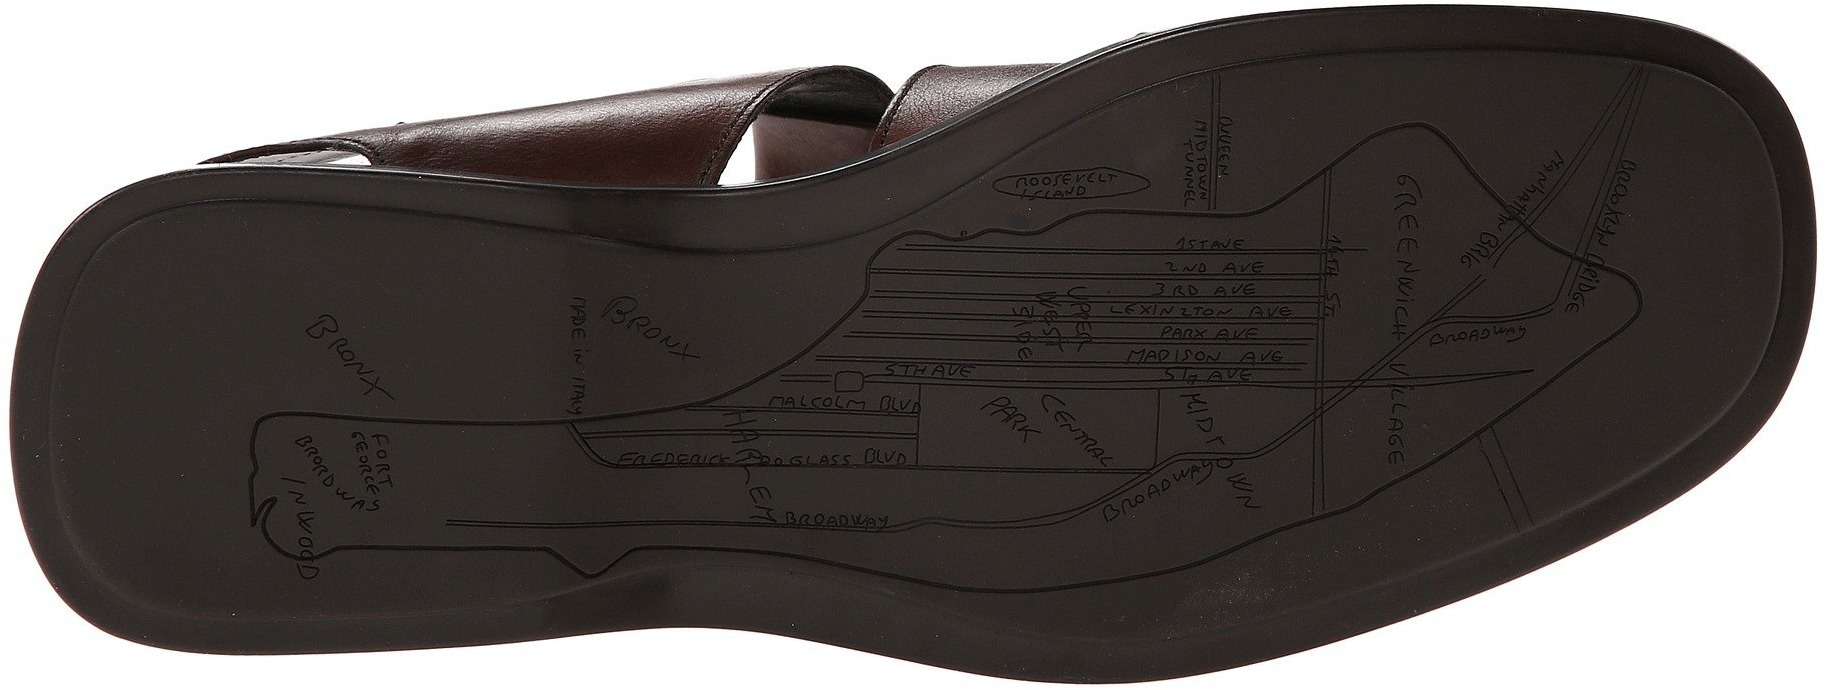other: (58, 442, 255, 614), (370, 239, 557, 410), (86, 272, 268, 431)
